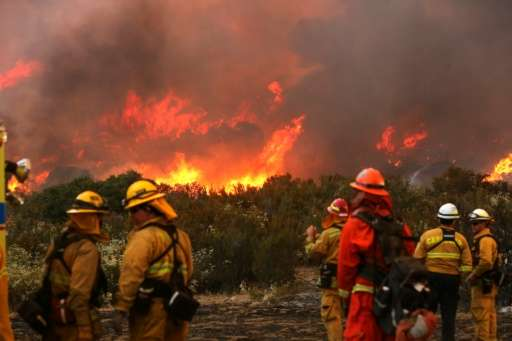fire: (163, 161, 266, 193), (495, 155, 512, 176)
smoke: (25, 9, 303, 136), (308, 8, 503, 152)
